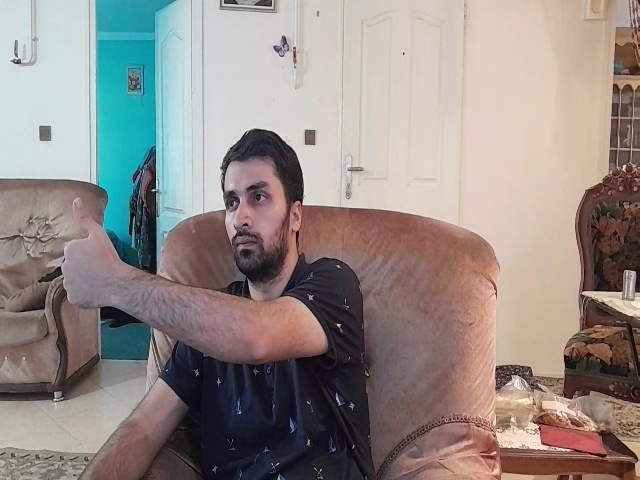ThumbsUp: (59, 196, 121, 311)
